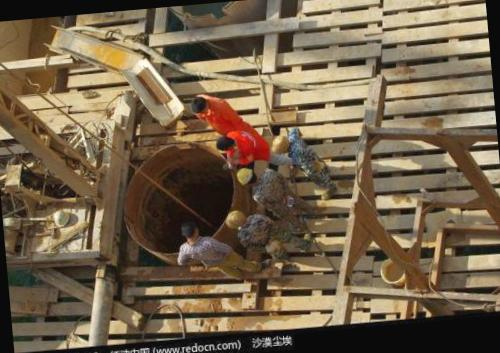no_helmet: (211, 132, 240, 151), (180, 220, 204, 242), (188, 94, 213, 115)
